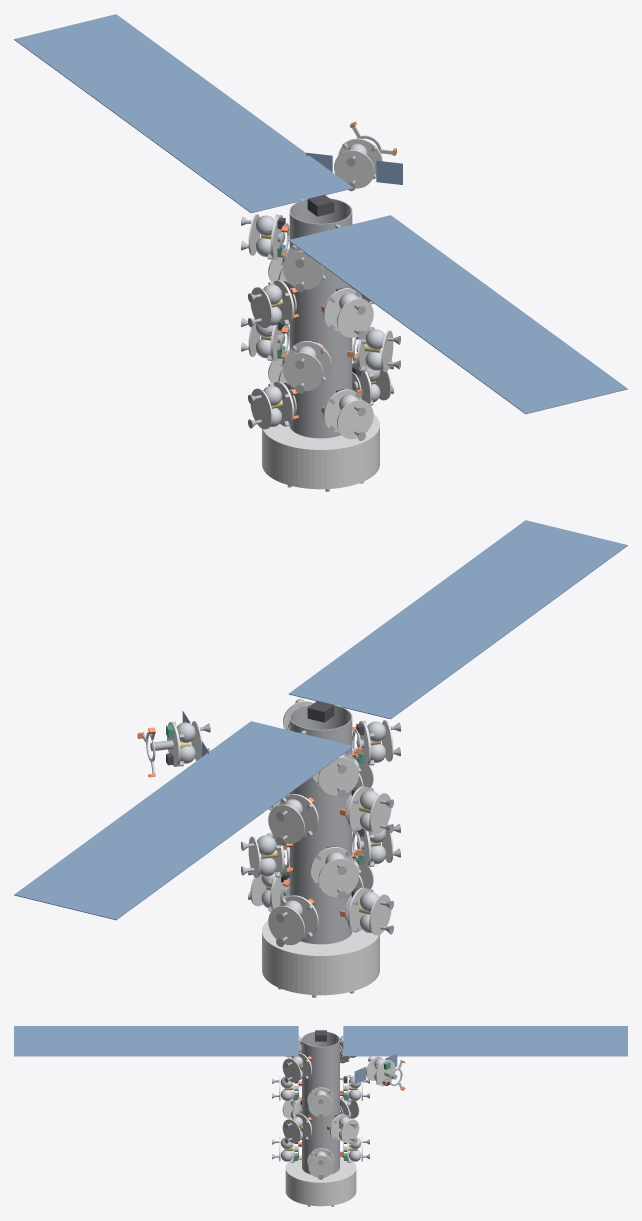
The model's file is v6_carrier_deployed.glb.
3 renders of one model, top to bottom at view 1: azimuth 30°, elevation 25°; view 2: azimuth 150°, elevation 25°; view 3: azimuth 270°, elevation 25°, orthographic. The views are drawn at different scales.
Parts seen in each view (by area): view 1: wing_1, wing_0, column, bus, k12_top, free_top, k32_top, k03_top, k23_top; view 2: wing_0, wing_1, column, bus, k11_top, k31_top, k01_top, k21_top; view 3: wing_1, wing_0, column, bus, k20_top, k00_top, k33_top, k10_top, k13_top, free_deck.
Boxes of the visible parts, box(x1,y1,x2,y2) form: wing_1: box(288, 215, 627, 414); wing_0: box(14, 14, 353, 213); column: box(289, 198, 352, 438); bus: box(262, 414, 379, 489); k12_top: box(283, 352, 323, 390); free_top: box(334, 150, 374, 188); k32_top: box(283, 251, 323, 289); k03_top: box(337, 400, 373, 439); k23_top: box(337, 298, 373, 337); wing_0: box(14, 721, 353, 920); wing_1: box(288, 520, 627, 719); column: box(289, 704, 352, 944); bus: box(262, 920, 379, 995); k11_top: box(318, 858, 358, 896); k31_top: box(318, 757, 358, 795); k01_top: box(268, 906, 304, 945); k21_top: box(268, 804, 304, 843); wing_1: box(14, 1026, 298, 1056); wing_0: box(343, 1026, 627, 1056); column: box(302, 1032, 339, 1174); bus: box(285, 1155, 356, 1206); k20_top: box(308, 1094, 333, 1116); k00_top: box(308, 1155, 333, 1177); k33_top: box(282, 1058, 300, 1082); k10_top: box(341, 1119, 359, 1143); k13_top: box(282, 1119, 300, 1143); free_deck: box(375, 1060, 395, 1086).
Bounding box in the file's own units: 5.88 × 7.63 × 26.
